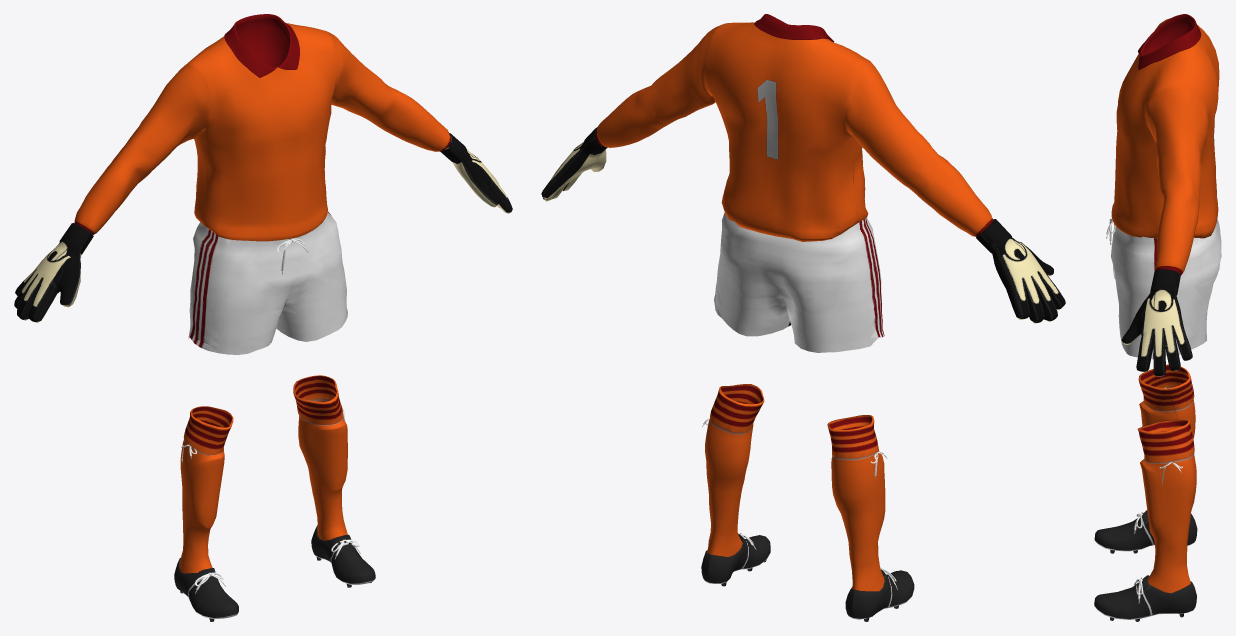
Rendered from 1770590280978-8ql5jyzbwaw.glb.
3 views of the same model, side by side, from view 1: azimuth 30°, elevation 25°; view 2: azimuth 150°, elevation 25°; view 3: azimuth 270°, elevation 25° (orthographic). The views are drawn at different scales.
Visible parts, largest first — view 1: shirt_in.001, 1. Pants_modificati, GK_sleeve.001, socks_middle.002, MESH_collar_080, guanto_D, scarpino D.001, scarpino S.001, guanto_S; view 2: shirt_in.001, 1. Pants_modificati, GK_sleeve.001, socks_middle.002, guanto_D, MESH_collar_080, scarpino D.001, scarpino S.001, guanto_S; view 3: shirt_in.001, socks_middle.002, GK_sleeve.001, 1. Pants_modificati, guanto_S, scarpino S.001, MESH_collar_080, scarpino D.001.
Part boxes in pixels (<box>): shirt_in.001: <box>184,23,339,241</box>; 1. Pants_modificati: <box>188,211,347,354</box>; GK_sleeve.001: <box>74,33,451,234</box>; socks_middle.002: <box>179,375,347,573</box>; MESH_collar_080: <box>216,14,310,122</box>; guanto_D: <box>14,223,93,322</box>; scarpino D.001: <box>174,558,238,621</box>; scarpino S.001: <box>311,525,375,587</box>; guanto_S: <box>440,133,512,213</box>; shirt_in.001: <box>703,22,869,241</box>; 1. Pants_modificati: <box>714,212,884,352</box>; GK_sleeve.001: <box>595,27,993,236</box>; socks_middle.002: <box>705,384,885,591</box>; guanto_D: <box>976,219,1065,323</box>; MESH_collar_080: <box>745,14,834,54</box>; scarpino D.001: <box>845,568,914,621</box>; scarpino S.001: <box>701,533,770,586</box>; guanto_S: <box>541,127,607,201</box>; shirt_in.001: <box>1111,18,1219,238</box>; socks_middle.002: <box>1137,364,1196,593</box>; GK_sleeve.001: <box>1145,86,1208,275</box>; 1. Pants_modificati: <box>1111,219,1221,359</box>; guanto_S: <box>1121,269,1192,376</box>; scarpino S.001: <box>1094,575,1196,621</box>; MESH_collar_080: <box>1118,14,1204,105</box>; scarpino D.001: <box>1094,510,1197,553</box>.
Bounding box in the file's own units: 1.44 × 1.58 × 0.3257.
Materials: 10 (10 with a texture image).
